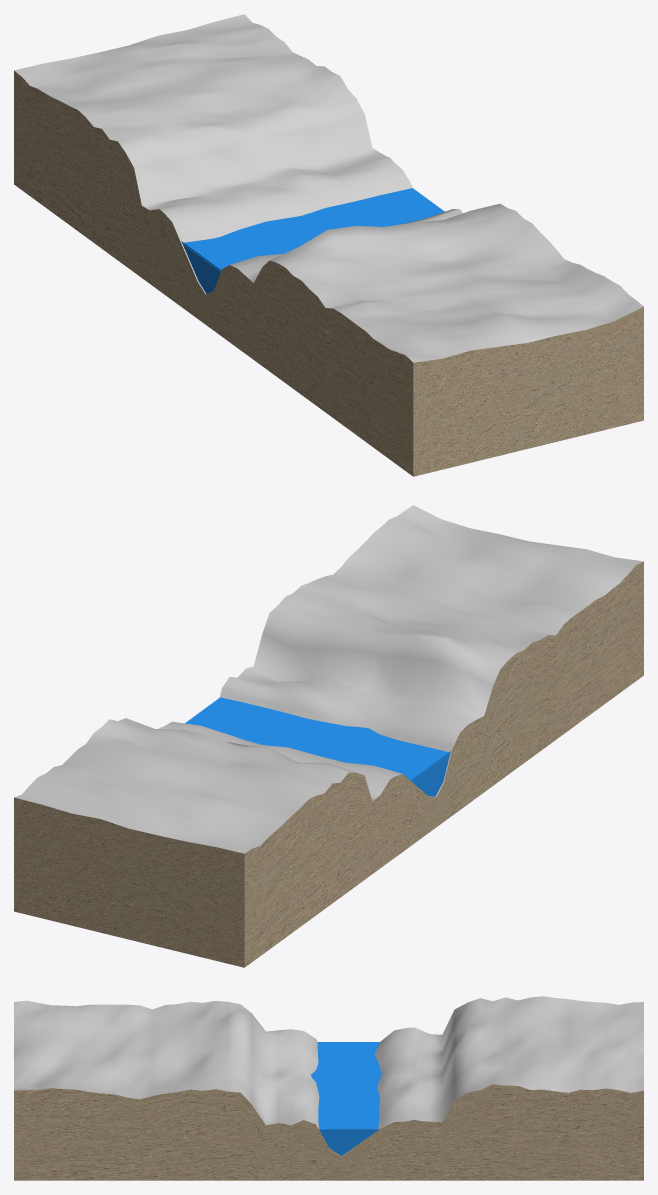
File: 成熟河谷.gltf
The picture shows the model from 3 angles, top to bottom: view 1: azimuth 30°, elevation 25°; view 2: azimuth 150°, elevation 25°; view 3: azimuth 270°, elevation 25°; orthographic projection. The views are drawn at different scales.
Visible parts, largest first — view 1: node__-2696, node_Plane_-2710, node_Plane_-2708; view 2: node__-2696, node_Plane_-2710, node_Plane_-2708; view 3: node__-2696, node_Plane_-2710, node_Plane (1)_-2712.
Boxes of the visible parts, x1,y1,x2,y2 form: node__-2696: (14,14,643,476); node_Plane_-2710: (182,188,444,271); node_Plane_-2708: (181,241,221,293); node__-2696: (14,505,643,967); node_Plane_-2710: (185,697,450,781); node_Plane_-2708: (410,751,450,796); node__-2696: (14,996,643,1180); node_Plane_-2710: (311,1042,381,1129); node_Plane (1)_-2712: (319,1129,379,1155).
Size of the model in its own units: 2.54 by 1.34 by 7.62.
